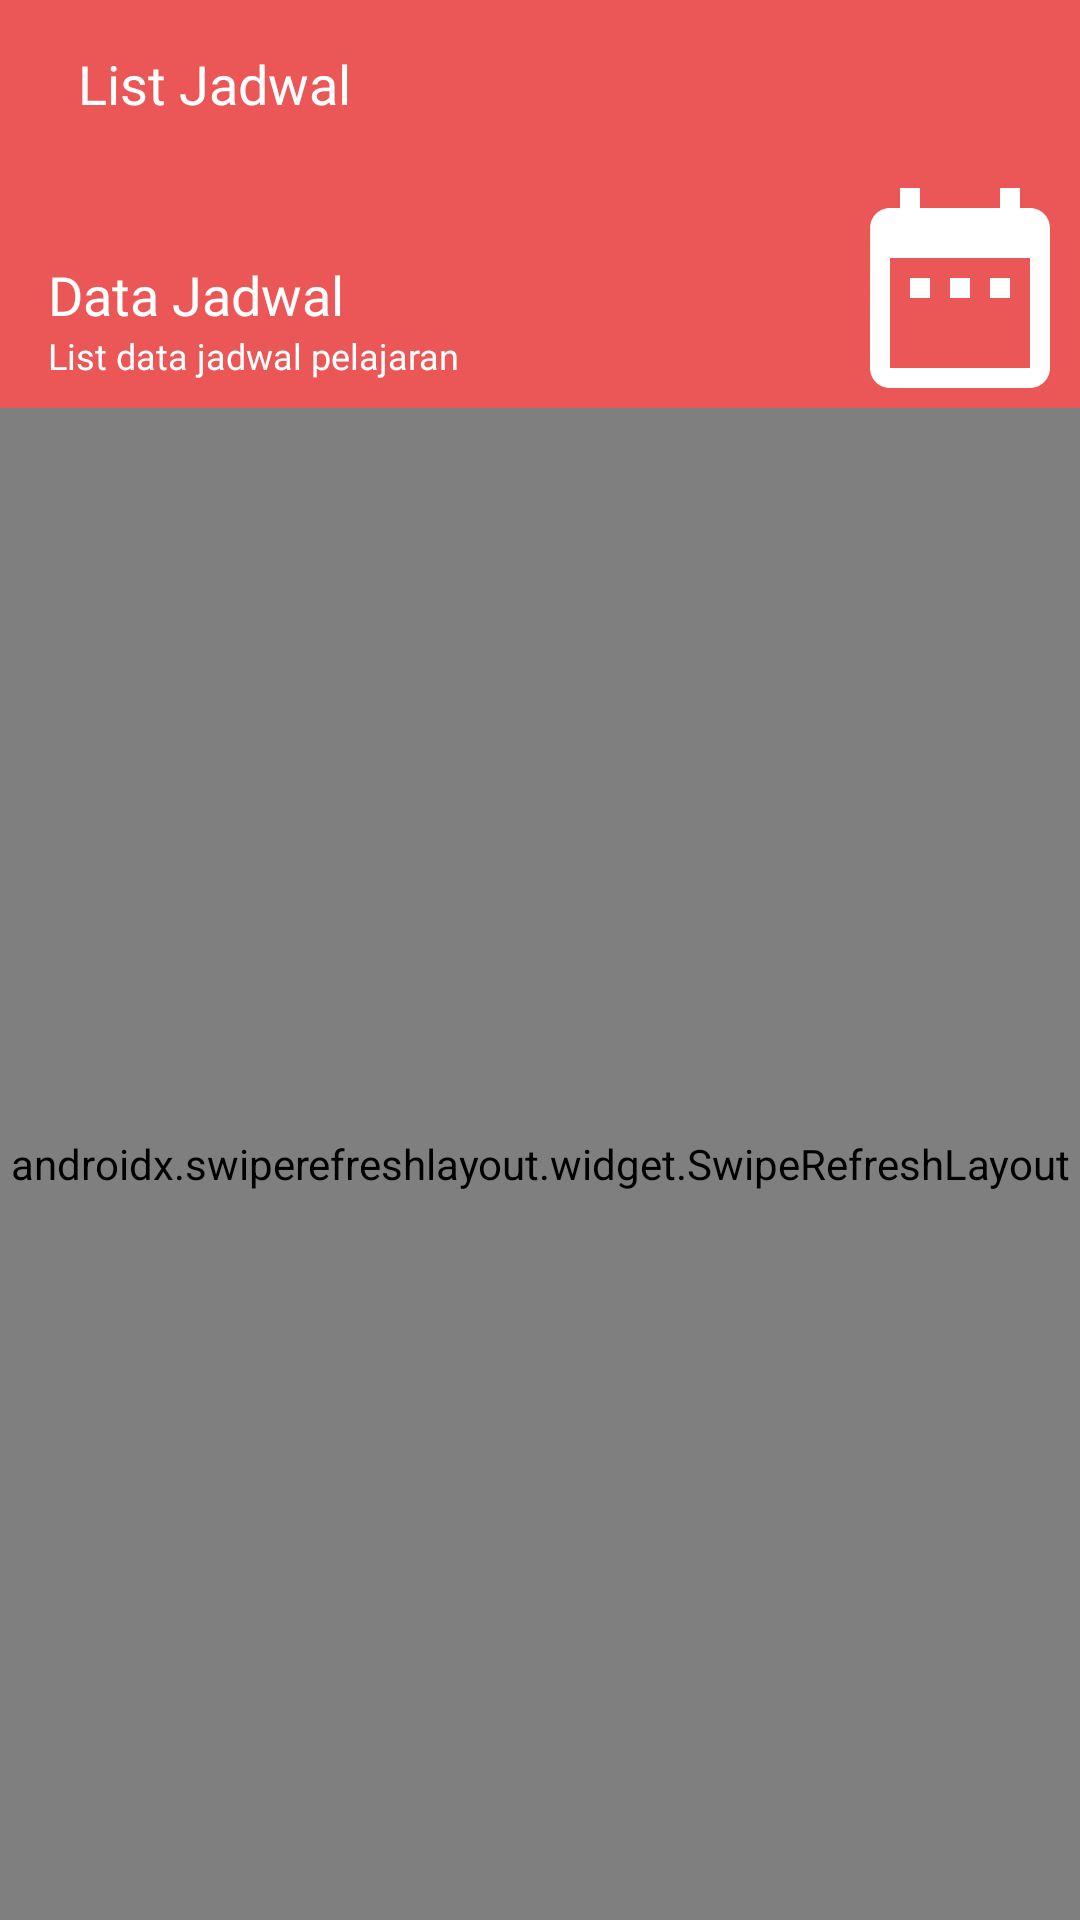

Where to tap for icons on this 1080px×1920px app screen, as (x=x, y=y):
list jadwal: (x=960, y=288)
